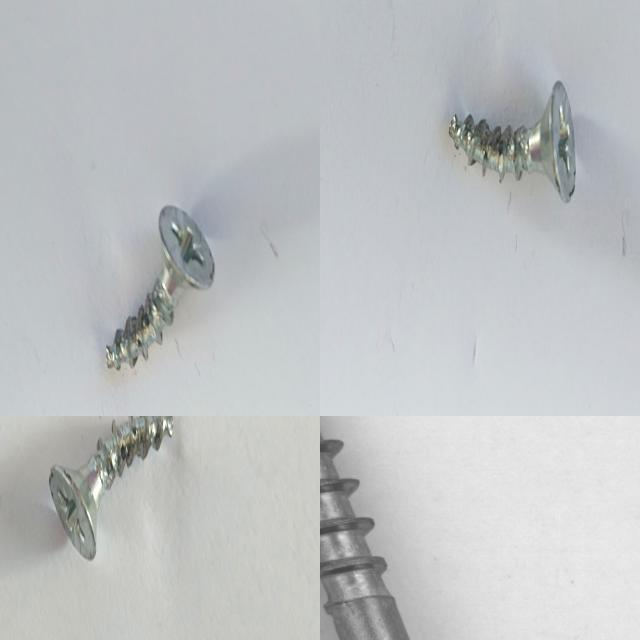Screw: (320, 416, 576, 640), (105, 205, 214, 370), (49, 416, 174, 559), (449, 80, 576, 202)
